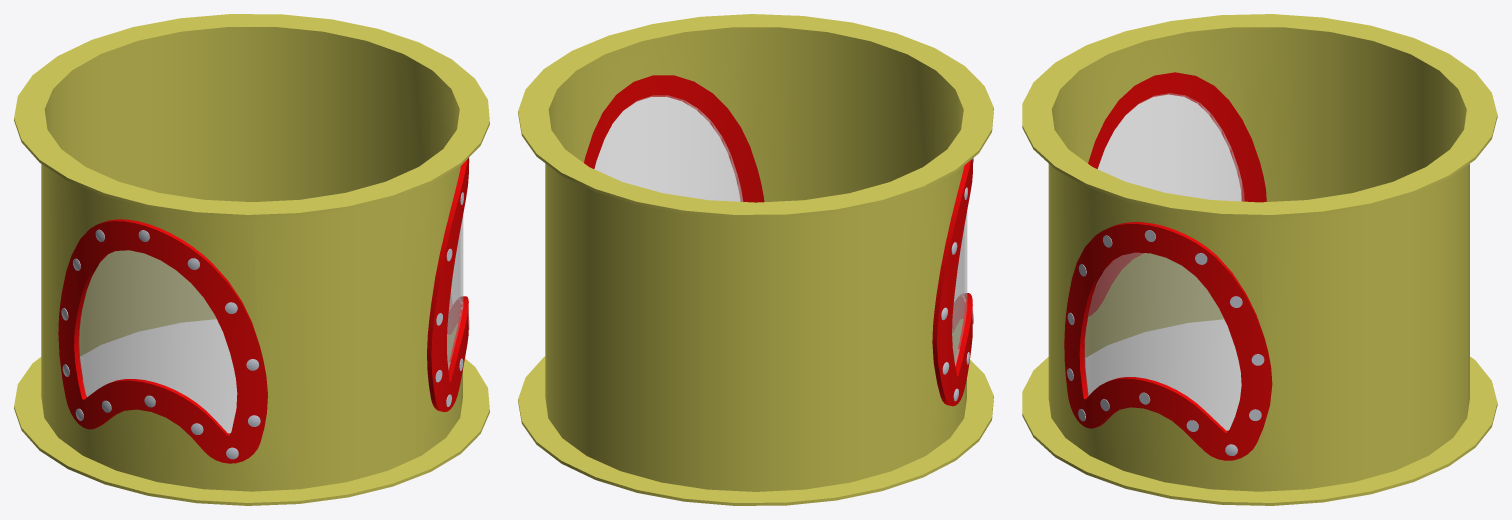
The model's file is model-straight-59-window_updated.fbx.
3 renders of one model, left to right at view 1: azimuth 30°, elevation 25°; view 2: azimuth 150°, elevation 25°; view 3: azimuth 270°, elevation 25°, orthographic.
Parts seen in each view (by area): view 1: RŤr-lige-590-window simple; view 2: RŤr-lige-590-window simple; view 3: RŤr-lige-590-window simple.
Boxes of the visible parts, <box> form: RŤr-lige-590-window simple: <box>14,14,489,505</box>; RŤr-lige-590-window simple: <box>518,14,993,505</box>; RŤr-lige-590-window simple: <box>1022,14,1497,505</box>.
Bounding box in the file's own units: 87.87 × 59.29 × 87.74.
